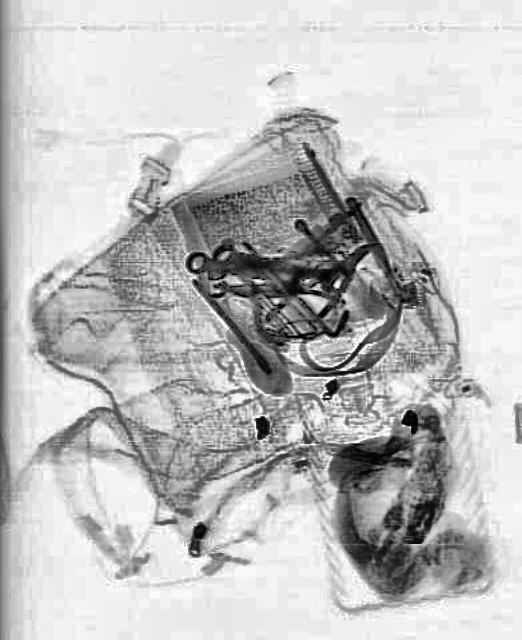Wrench: (184, 240, 354, 294)
